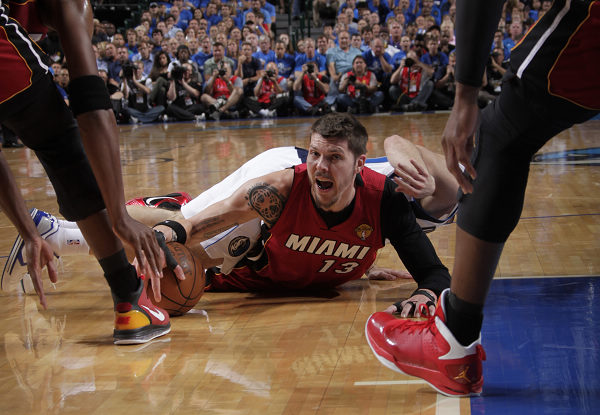10+: (3, 2, 599, 400)
down: (1, 114, 469, 299)
